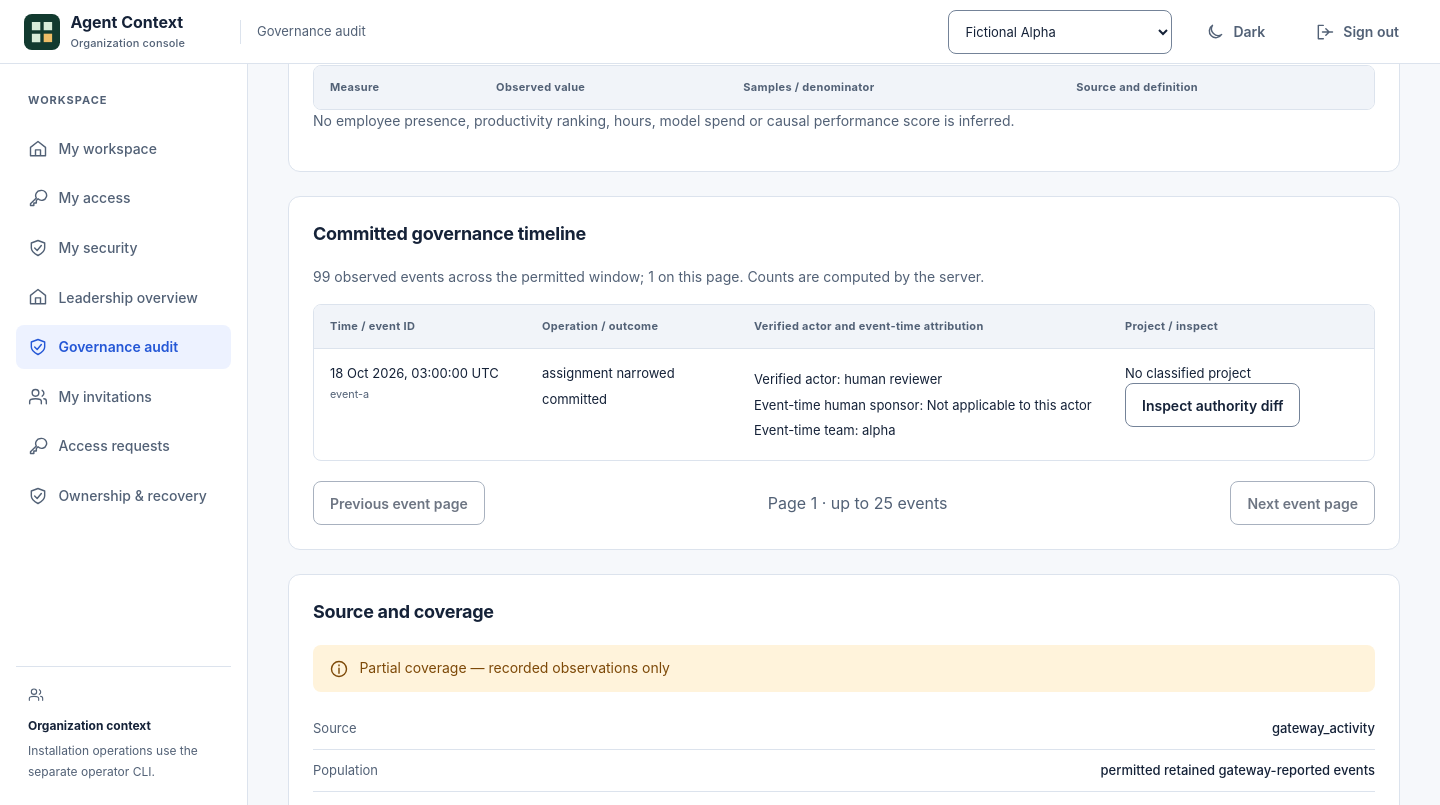
Scenario: redacted governance audit › renders recorded before/after authority only, with missing snapshots explicit
The image size is (1440, 805).
(page scrolled)
Click the button with aria-label "Inspect authority diff event-a" at (1213, 405), box [1125,383,1300,427]
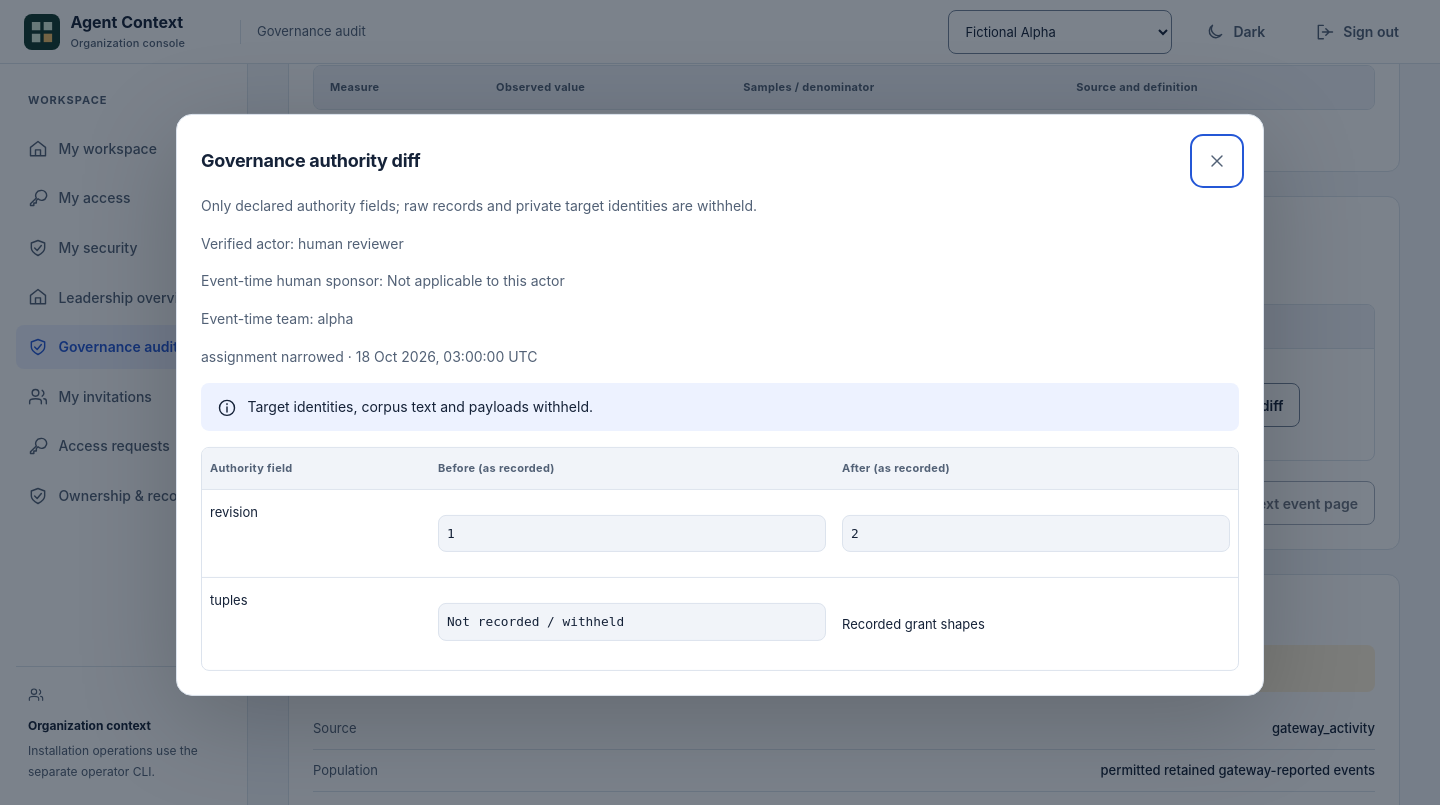
Expected: the table named "Redacted authority changes" shows "Not recorded / withheld", [447,614,624,629]
Expected: the text "Target identities, corpus text and payloads withheld." is shown, [247,396,593,418]
